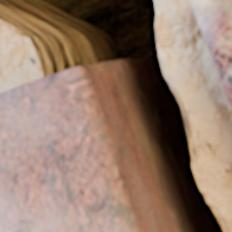brick: (0, 67, 161, 231), (193, 0, 231, 104)
crack: (0, 0, 229, 231)
